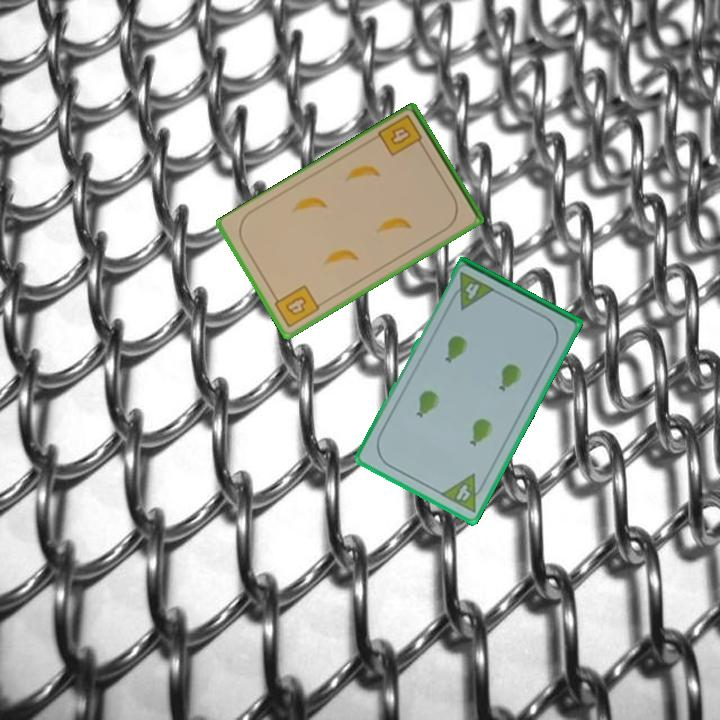4b: (269, 281, 322, 331), (375, 111, 428, 159)
4p: (437, 470, 490, 516), (446, 269, 498, 313)
